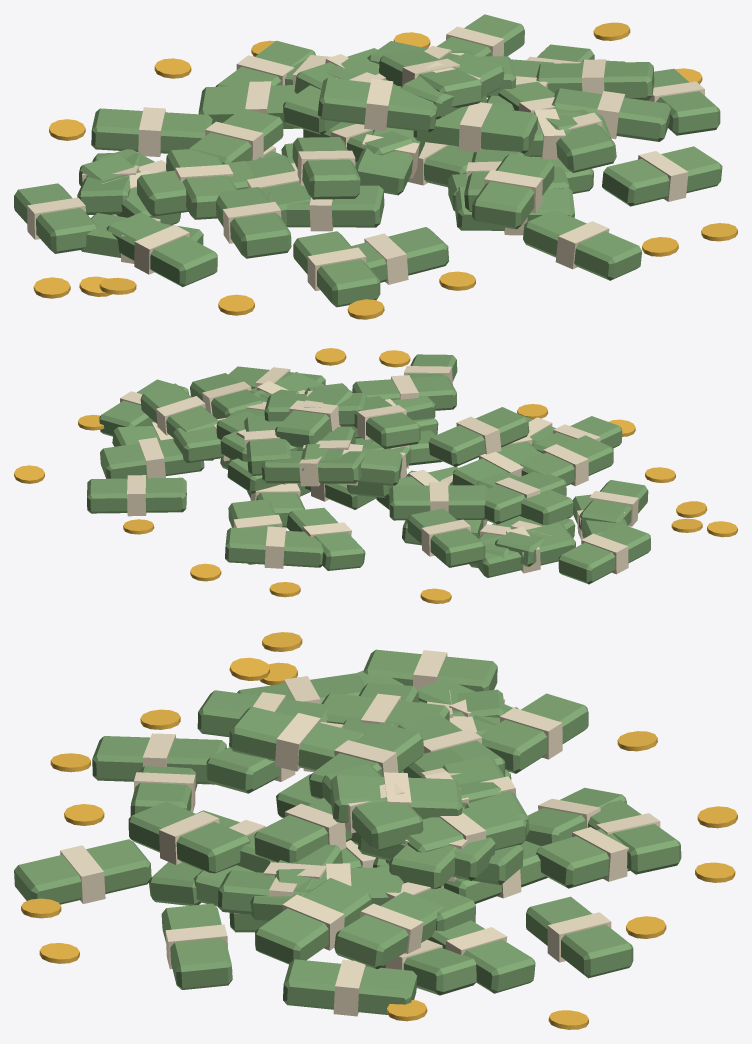
File: money_pile.glb
3 renders of one model, top to bottom at view 1: azimuth 30°, elevation 25°; view 2: azimuth 150°, elevation 25°; view 3: azimuth 270°, elevation 25°, orthographic. The views are drawn at different scales.
Visible parts, largest first — view 1: MoneyPile; view 2: MoneyPile; view 3: MoneyPile.
Part boxes in pixels (x1,y1,x2,y2): MoneyPile: (14,14,737,319); MoneyPile: (14,348,737,603); MoneyPile: (14,632,737,1029).
Size of the model in its own units: 1.14 by 0.1506 by 0.8991.
